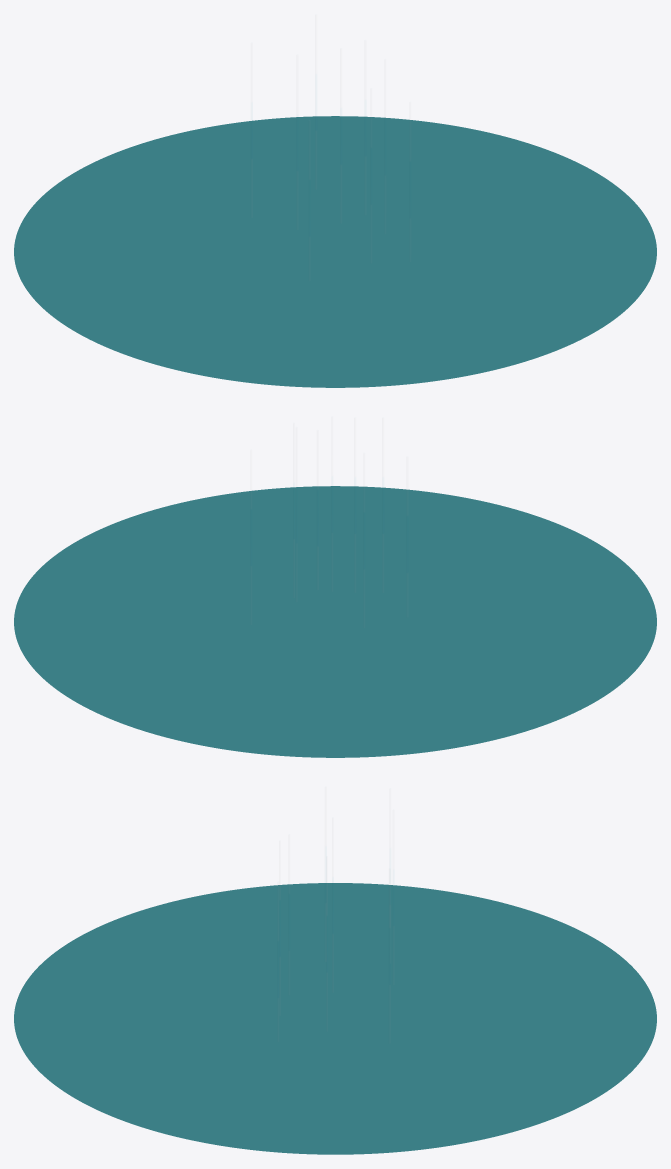
The model's file is device1.glb.
3 views of the same model, one above another, from view 1: azimuth 30°, elevation 25°; view 2: azimuth 150°, elevation 25°; view 3: azimuth 270°, elevation 25° (orthographic).
Visible parts, largest first — view 1: 圆盘.2, 圆盘.1; view 2: 圆盘.2, 圆盘.1; view 3: 圆盘.2, 圆盘.1.
Part boxes in pixels (x1=…): 圆盘.2: x1=14, y1=116, x2=656, y2=387; 圆盘.1: x1=177, y1=185, x2=493, y2=318; 圆盘.2: x1=14, y1=486, x2=656, y2=757; 圆盘.1: x1=178, y1=556, x2=492, y2=688; 圆盘.2: x1=14, y1=883, x2=656, y2=1154; 圆盘.1: x1=177, y1=952, x2=493, y2=1085.
Size of what is drawn, in the model's own units: 23.95 by 9.42 by 23.95.
